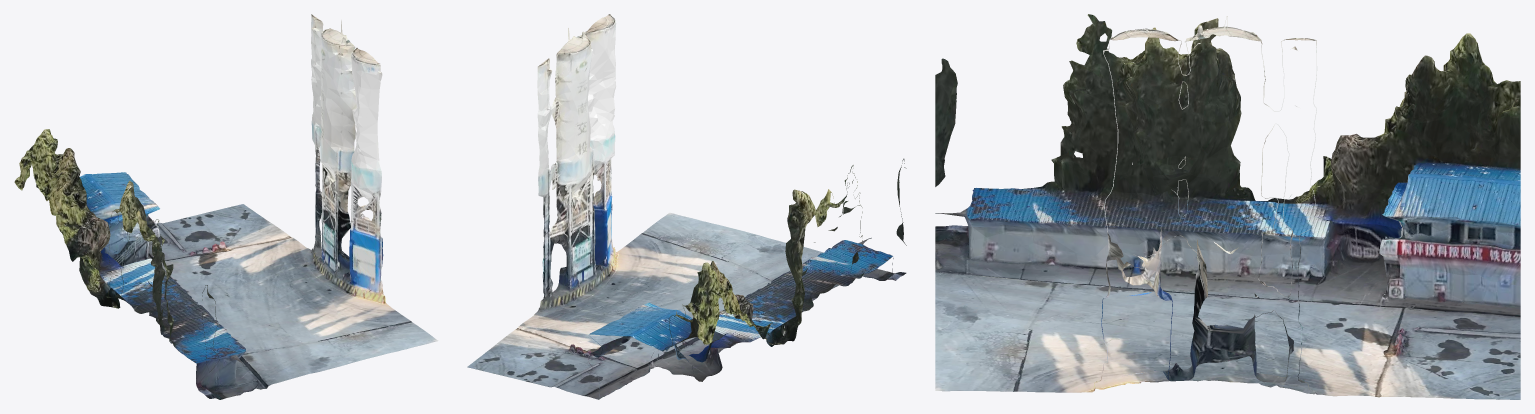
File: BlockBBBB_L20_159.glb
The picture shows the model from 3 angles, left to right: view 1: azimuth 30°, elevation 25°; view 2: azimuth 150°, elevation 25°; view 3: azimuth 270°, elevation 25°; orthographic projection. The views are drawn at different scales.
Visible parts, largest first — view 1: rtc; view 2: rtc; view 3: rtc.
Part boxes in pixels (x1,y1,x2,y2): rtc: (14,14,438,399); rtc: (467,14,906,399); rtc: (935,14,1520,399).
Size of the model in its own units: 22.39 by 24.03 by 33.04.
Materials: 7 (7 with a texture image).
